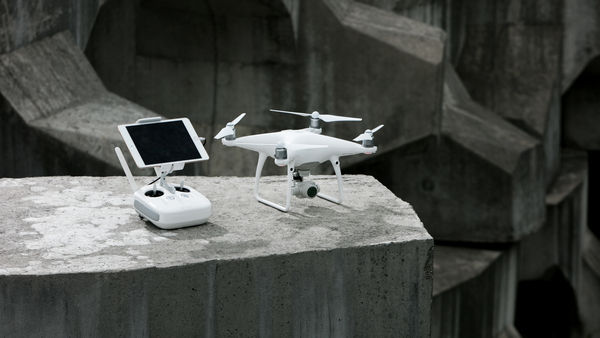drone: (213, 106, 385, 213)
